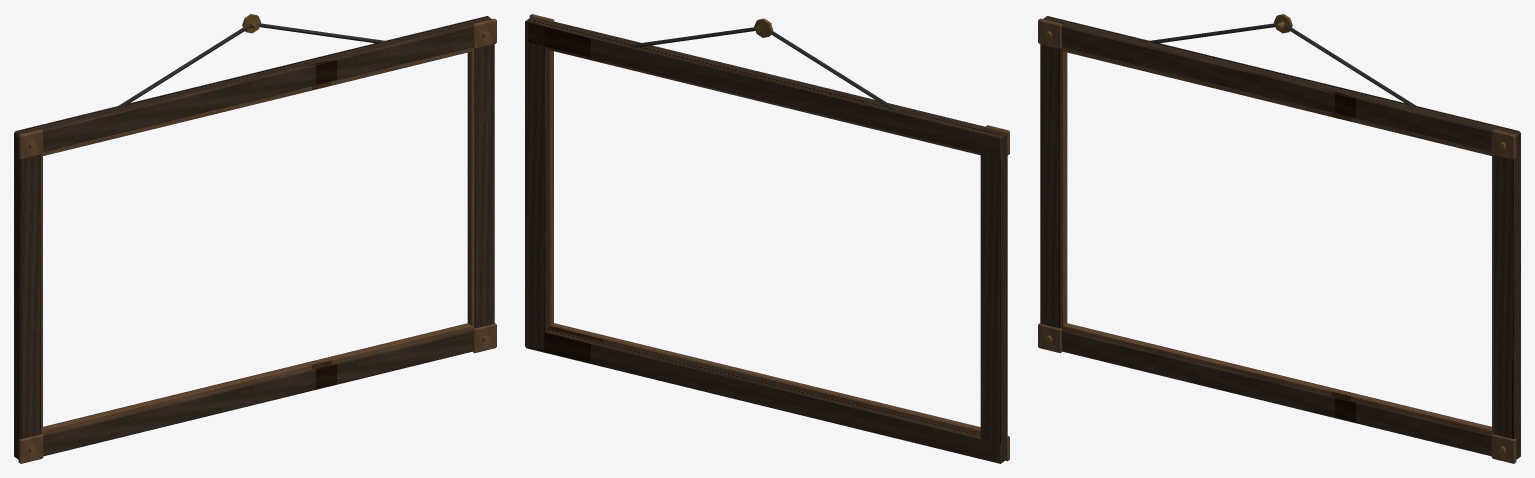
Rendered from division_map_frame_static.glb.
The picture shows the model from 3 angles, left to right: view 1: azimuth 30°, elevation 25°; view 2: azimuth 150°, elevation 25°; view 3: azimuth 330°, elevation 25°; orthographic projection.
Parts seen in each view (by area): view 1: division_map_frame_static; view 2: division_map_frame_static; view 3: division_map_frame_static.
Part boxes in pixels (x1,y1,x2,y2): division_map_frame_static: (14, 14, 496, 463); division_map_frame_static: (525, 14, 1009, 463); division_map_frame_static: (1038, 14, 1520, 463).
Bounding box in the file's own units: 0.984 × 0.762 × 0.034.
Materials: 4 (4 with a texture image).
